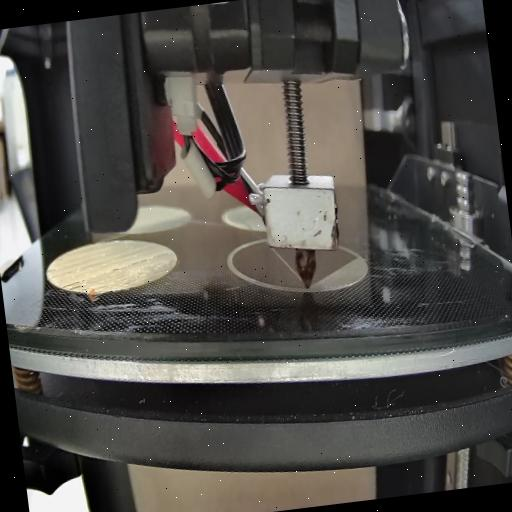under_extrusion: (110, 250, 170, 274), (62, 275, 93, 299), (45, 265, 58, 277)
